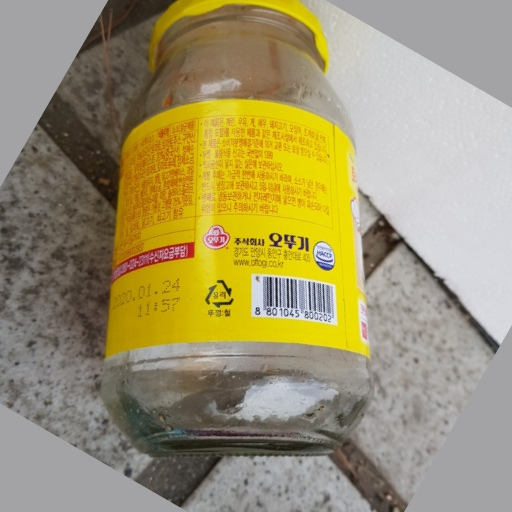Glass_5: (98, 3, 374, 456)
